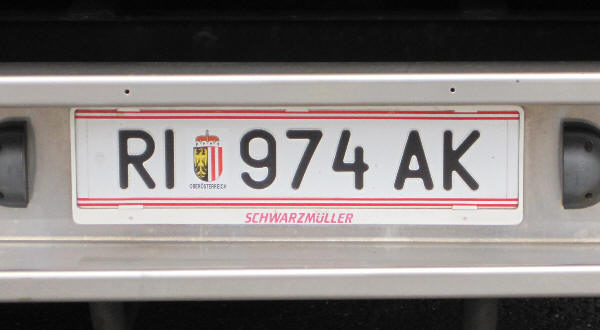license_plate: (72, 109, 520, 212)
